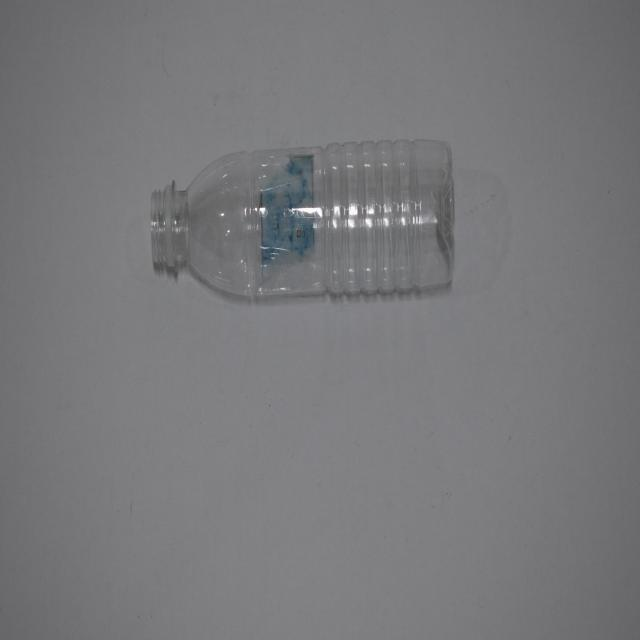bottle: (147, 134, 456, 301)
